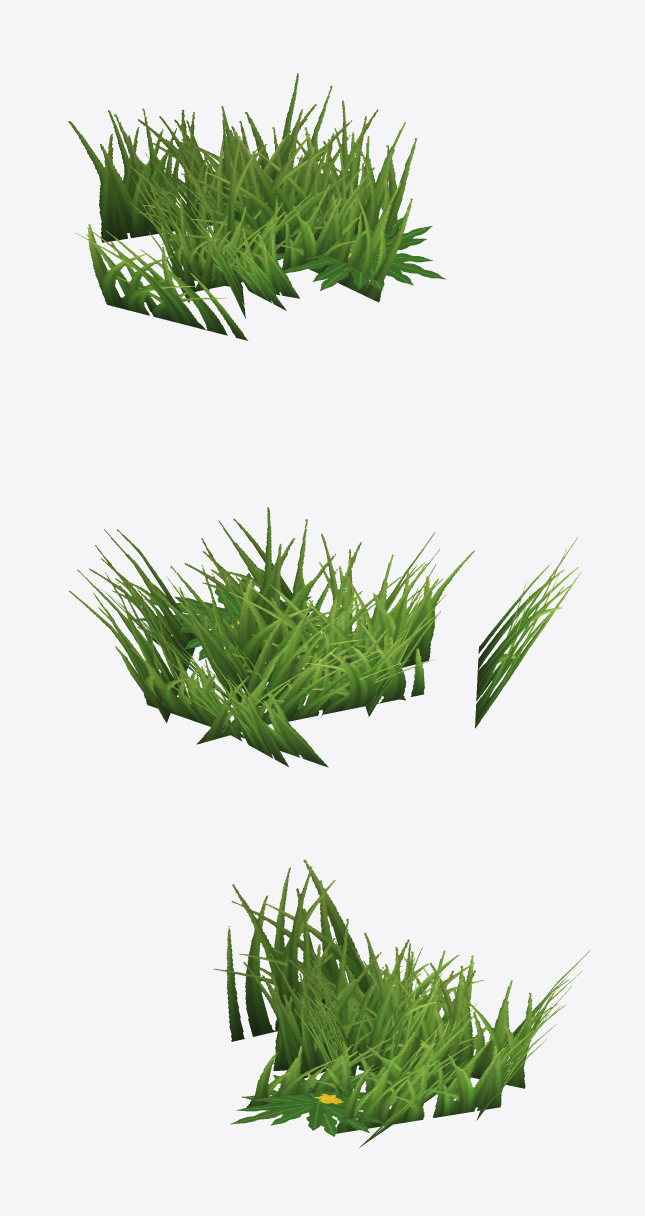
The model's file is Grass_Lawn_B.fbx.
The picture shows the model from 3 angles, top to bottom: view 1: azimuth 30°, elevation 25°; view 2: azimuth 150°, elevation 25°; view 3: azimuth 270°, elevation 25°; orthographic projection. The views are drawn at different scales.
Visible parts, largest first — view 1: Grass_Lawn_B_LOD0; view 2: Grass_Lawn_B_LOD0; view 3: Grass_Lawn_B_LOD0.
Boxes of the visible parts, box(x1,y1,x2,y2) form: Grass_Lawn_B_LOD0: box(68, 73, 445, 340); Grass_Lawn_B_LOD0: box(68, 507, 581, 767); Grass_Lawn_B_LOD0: box(213, 859, 590, 1147).
Size of what is drawn, in the model's own units: 0.7789 by 0.232 by 0.8122.
